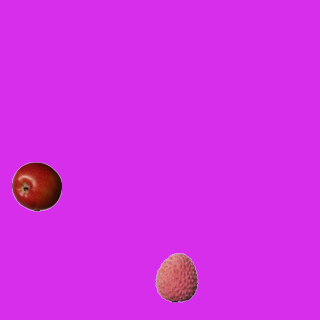Apple Braeburn: (11, 161, 61, 211)
Lychee: (151, 252, 201, 302)
